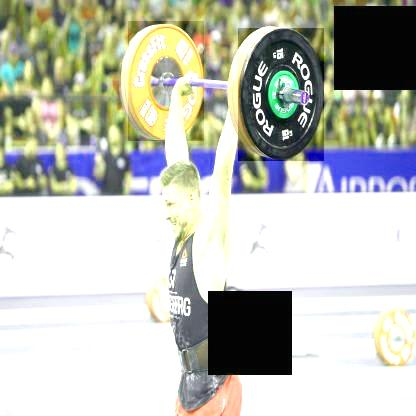barbell: (239, 28, 326, 161), (128, 22, 205, 141)
